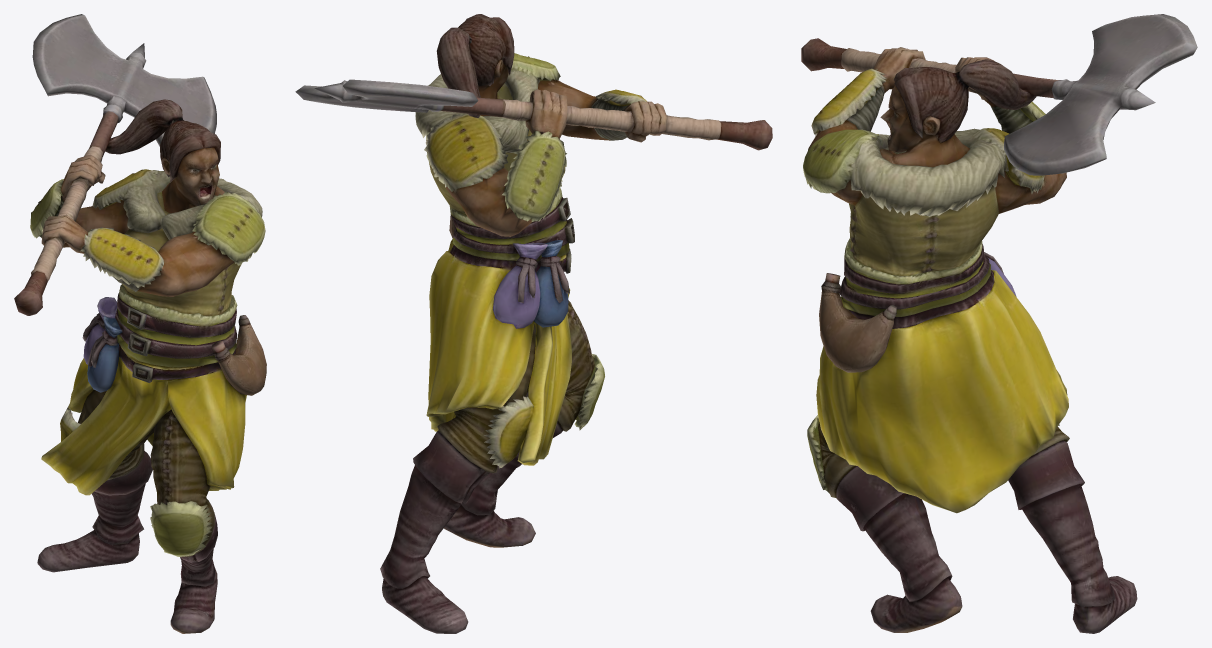
The model's file is MZ4250 - Berserker Female 02.glb.
3 views of the same model, side by side, from view 1: azimuth 30°, elevation 25°; view 2: azimuth 150°, elevation 25°; view 3: azimuth 270°, elevation 25° (orthographic). The views are drawn at different scales.
Visible parts, largest first — view 1: BerserkerFemale; view 2: BerserkerFemale; view 3: BerserkerFemale.
Part boxes in pixels (bbox=[...]): BerserkerFemale: bbox=[14, 14, 266, 633]; BerserkerFemale: bbox=[295, 14, 772, 633]; BerserkerFemale: bbox=[801, 14, 1197, 633].
Bounding box in the file's own units: 0.7233 × 1.14 × 0.6878.
Materials: 1 (1 with a texture image).
